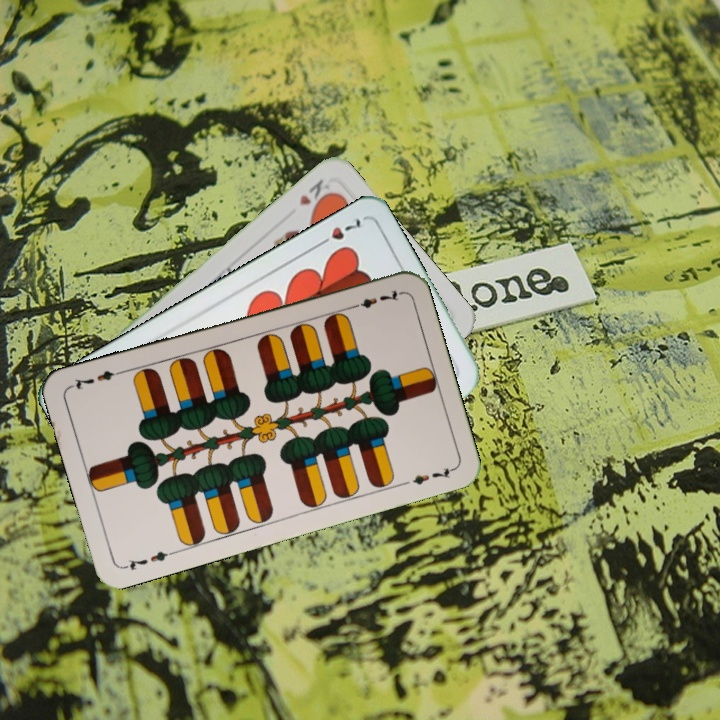E7: (120, 546, 178, 573), (345, 286, 403, 312)
H7: (312, 213, 364, 251)
HK: (295, 175, 336, 213)
